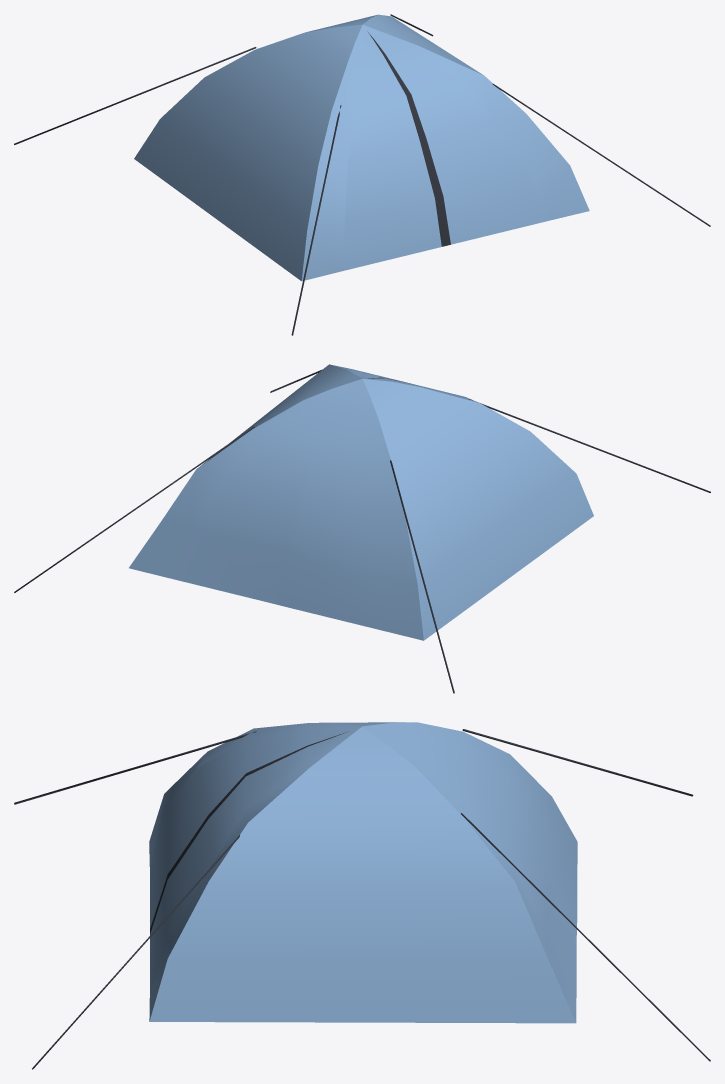
File: Modern-Tent_01.fbx
3 views of the same model, one above another, from view 1: azimuth 30°, elevation 25°; view 2: azimuth 150°, elevation 25°; view 3: azimuth 270°, elevation 25° (orthographic). The views are drawn at different scales.
Visible parts, largest first — view 1: Modern-Tent_01; view 2: Modern-Tent_01; view 3: Modern-Tent_01.
Part boxes in pixels (x1=…): Modern-Tent_01: x1=14, y1=14, x2=710, y2=335; Modern-Tent_01: x1=14, y1=364, x2=710, y2=693; Modern-Tent_01: x1=14, y1=722, x2=710, y2=1069.
Bounding box in the file's own units: 3.96 × 1.39 × 4.26.
